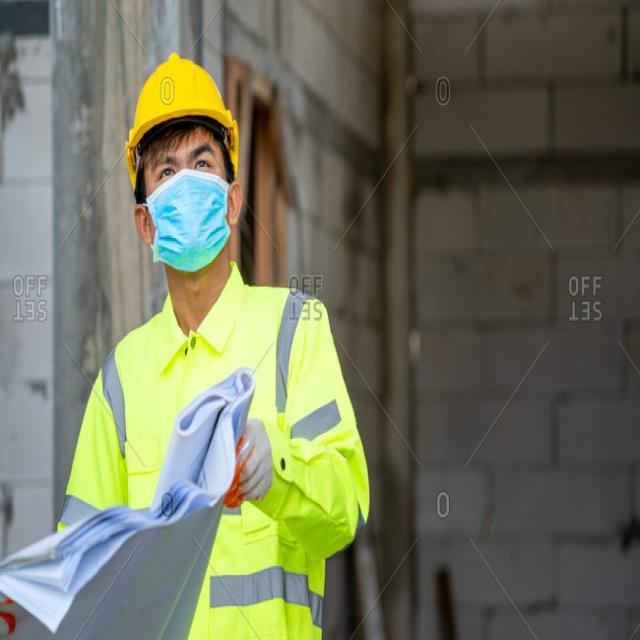gloves: (222, 412, 274, 512)
helmet: (125, 49, 242, 168)
vest: (101, 279, 315, 640)
